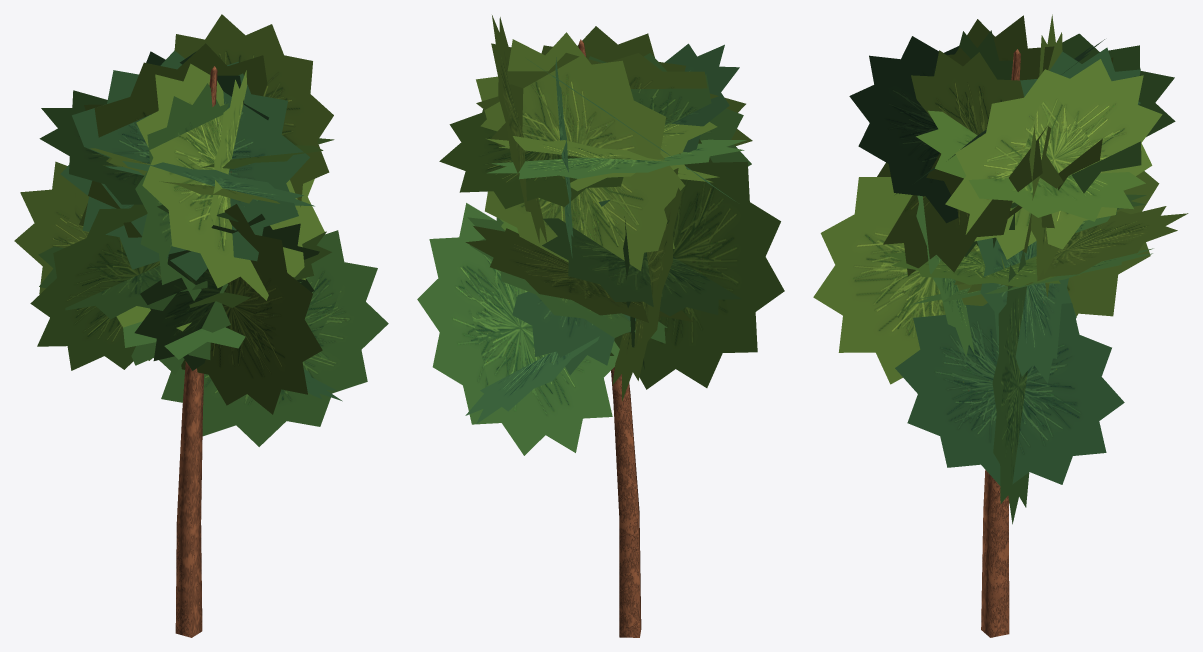
The model's file is hero_pine_b_lod2.obj.
3 views of the same model, side by side, from view 1: azimuth 30°, elevation 25°; view 2: azimuth 150°, elevation 25°; view 3: azimuth 270°, elevation 25° (orthographic). The views are drawn at different scales.
Parts seen in each view (by area): view 1: hero_pine_b_lod2; view 2: hero_pine_b_lod2; view 3: hero_pine_b_lod2.
Boxes of the visible parts, x1=… form: hero_pine_b_lod2: x1=14, y1=14, x2=388, y2=637; hero_pine_b_lod2: x1=417, y1=15, x2=784, y2=637; hero_pine_b_lod2: x1=813, y1=14, x2=1188, y2=637.
Bounding box in the file's own units: 9.49 × 14.67 × 8.06.
Materials: 2 (2 with a texture image).
